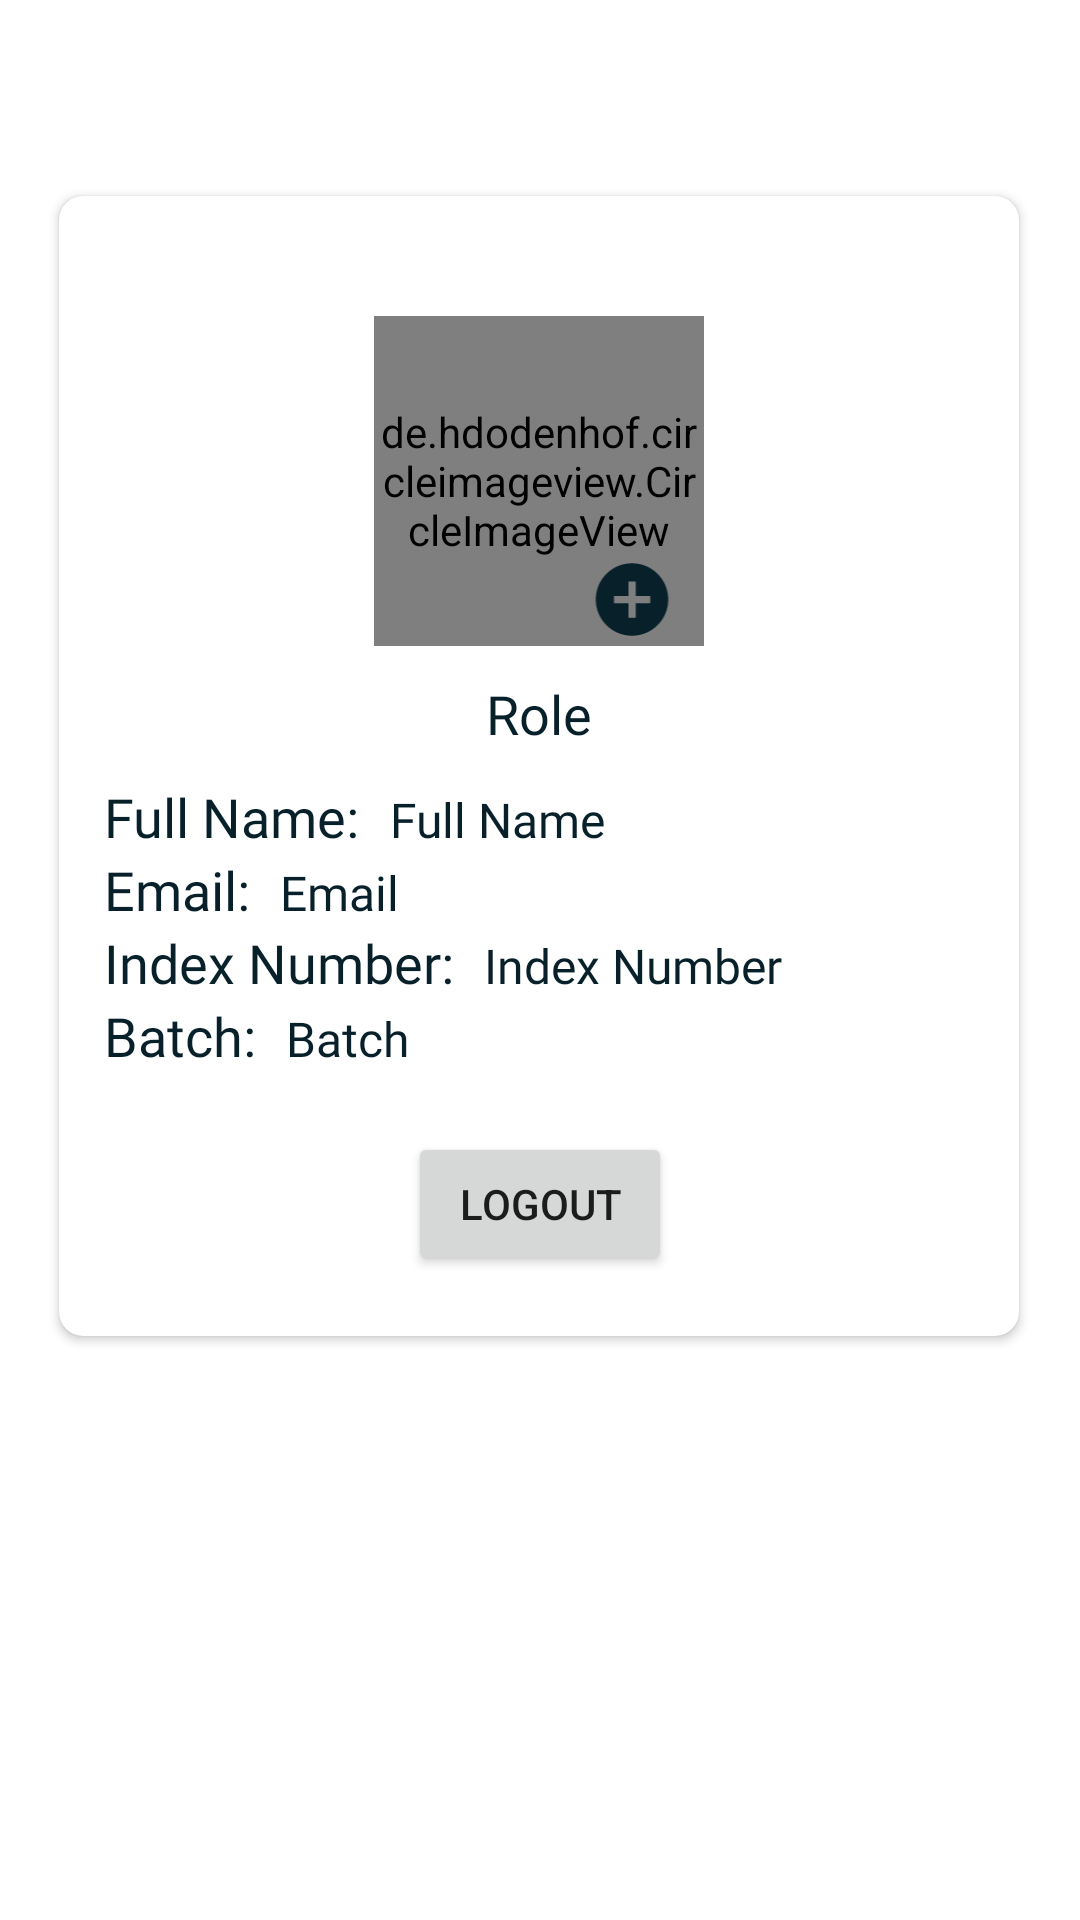

Locate icon controls on the screen. Image size 1080x1920, boxes as (x1, y1, x2, y2).
add circle: (595, 563, 669, 636)
